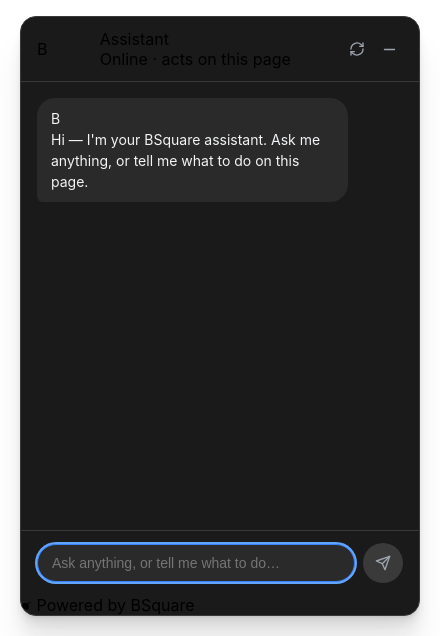
ChatInterface › renders a tool card for a backend tool result
The image size is (440, 636).
Step 1. Type "time?" into the field with placeholder "Ask anything, or tell me what to do…" → (196, 563), box [37,544,355,582]
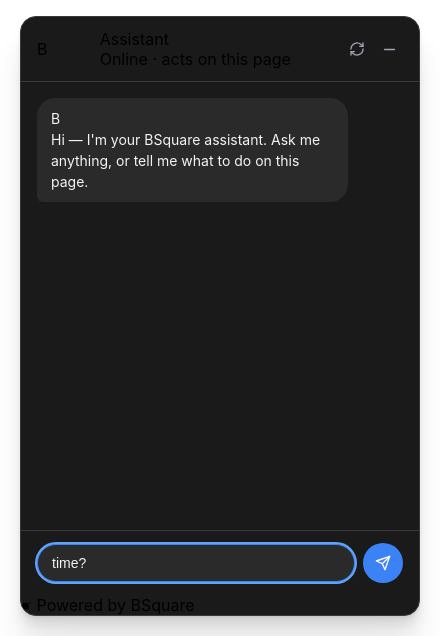
Step 2. Click the button titled "Send Message" → (383, 563), box [363,543,403,583]
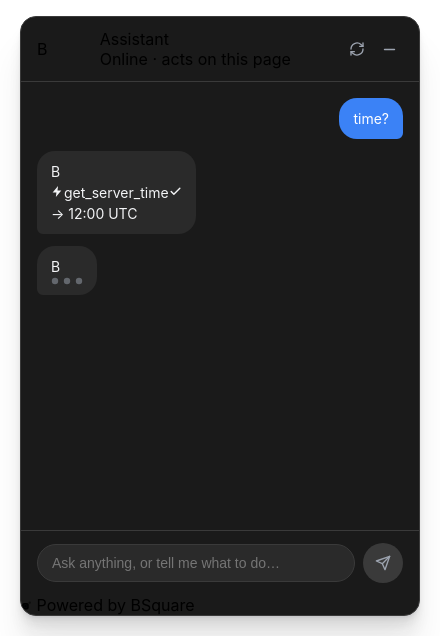
Check: the text "get_server_time" is shown, box [64,184,169,201]
Check: the text "→ 12:00 UTC" is shown, box [51,205,137,222]
